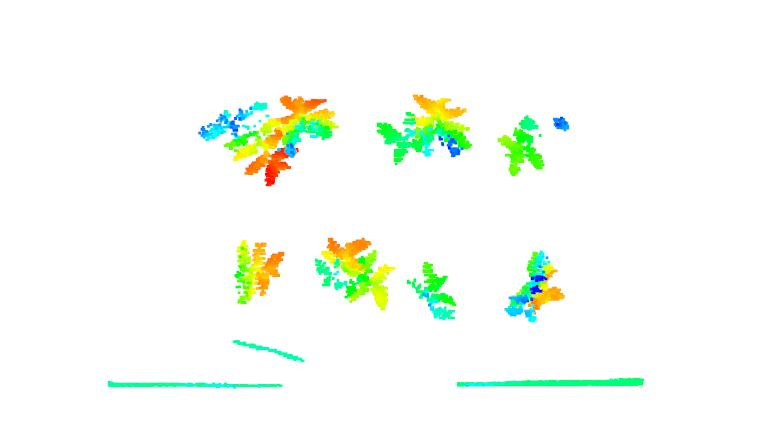chickpea: (199, 101, 298, 185), (372, 89, 472, 172), (312, 237, 399, 315), (500, 251, 566, 320), (261, 96, 337, 144), (233, 239, 286, 307), (497, 113, 547, 178), (410, 262, 462, 323)
